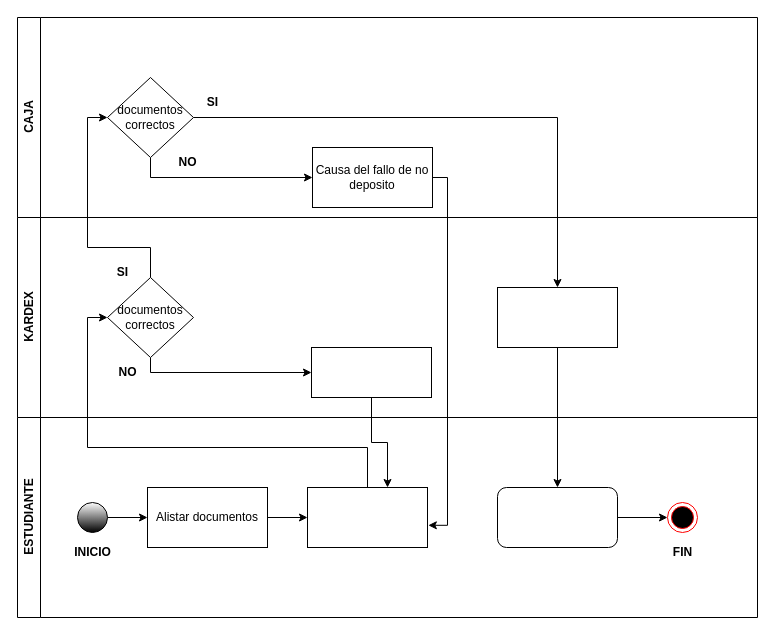
This 775x635 diagram has some shape labels left out. The shapes that lost their labels are listed below. From the top down, each one's centre as x and y in pixels, then its label:
At (557,317): "Extender Certificado".
At (371,372): "Causa de fallo de certificación".
At (367,517): "Subir documentos".
At (557,517): "Certificación Entregada".
